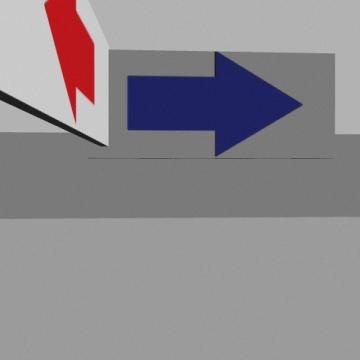blue_right: (128, 52, 302, 155)
red_left: (45, 0, 94, 122)
